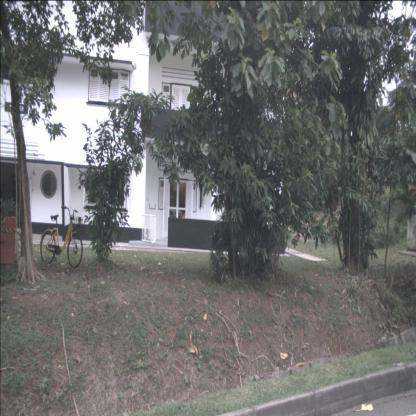cone: (0, 216, 16, 264)
